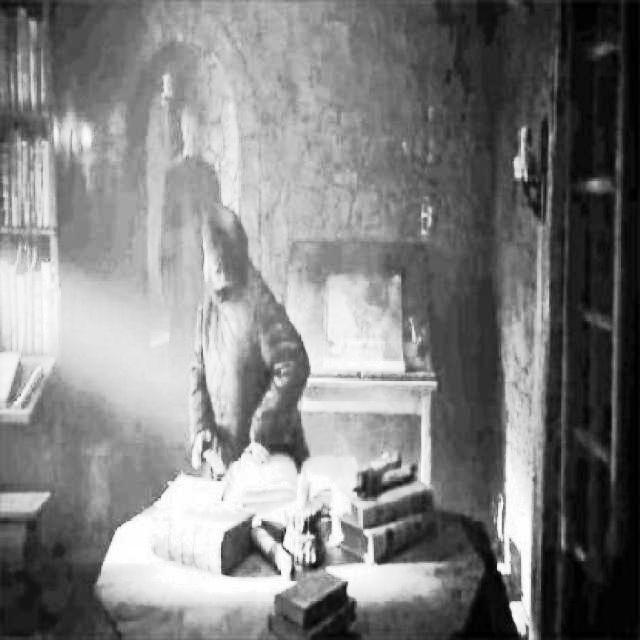Person: (186, 200, 315, 474), (152, 103, 225, 362)
